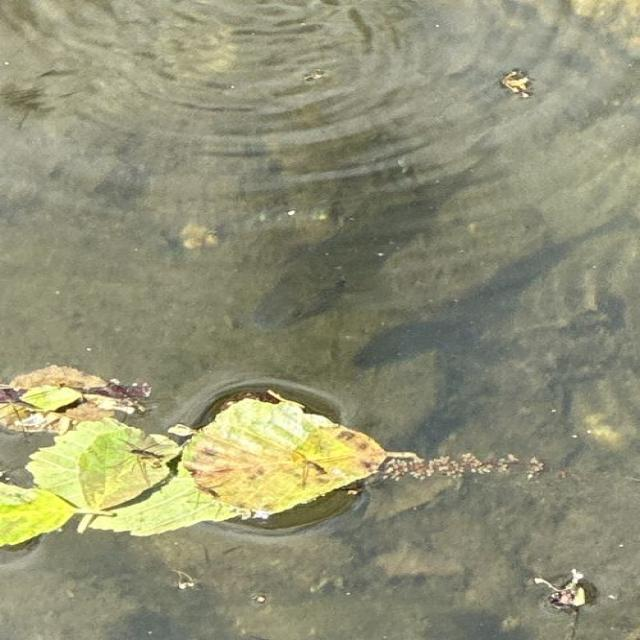Gunes Levregi: (250, 147, 488, 345)
